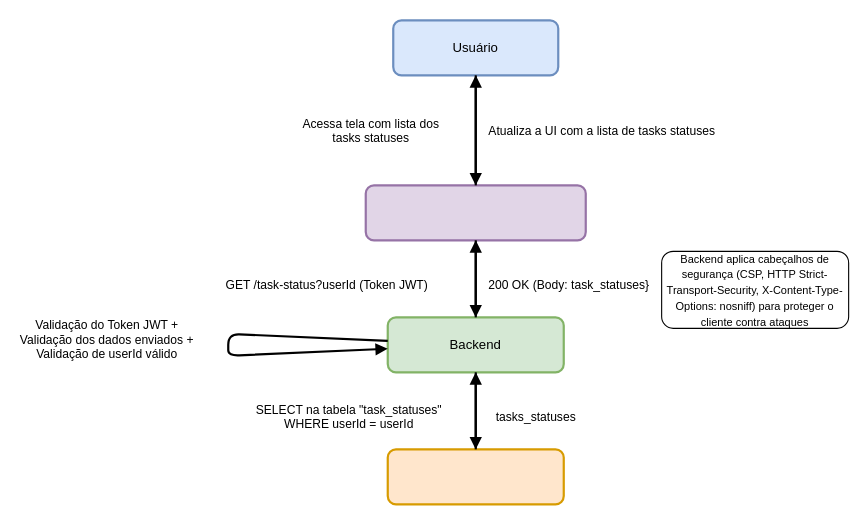
Some shapes in this 868 by 524 pixel diagram are drawn without their labels. Each missing label, with the centre of its shape:
Banco de Dados: (475,476)
Frontend/Navegador: (475,212)
